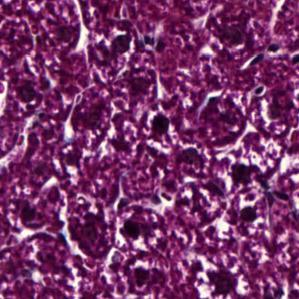inflammation: (62, 199, 125, 261), (194, 260, 250, 299), (223, 158, 275, 196), (140, 108, 179, 155), (107, 19, 150, 56)
